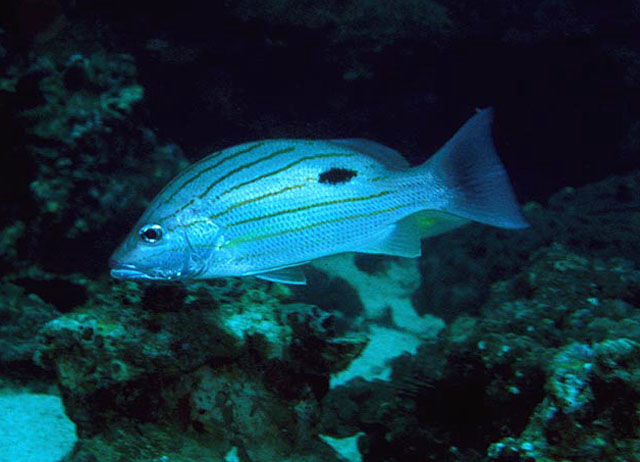fish: (109, 109, 531, 286)
